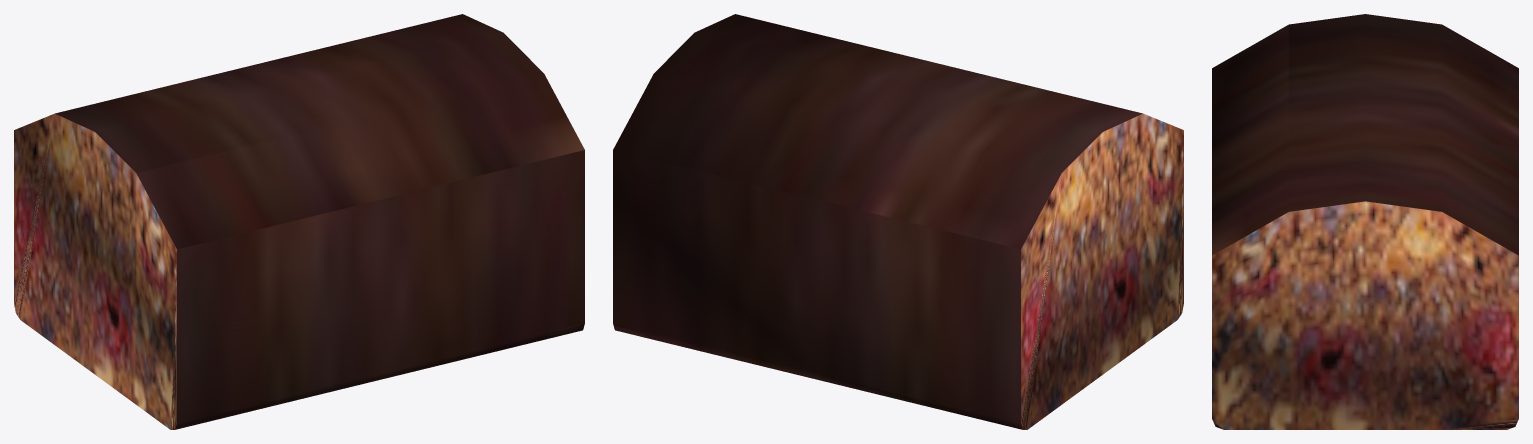
The model's file is WorldItem_FruitcakeLoaf.fbx.
3 views of the same model, side by side, from view 1: azimuth 30°, elevation 25°; view 2: azimuth 150°, elevation 25°; view 3: azimuth 270°, elevation 25° (orthographic). The views are drawn at different scales.
Visible parts, largest first — view 1: Cube; view 2: Cube; view 3: Cube.
Part boxes in pixels (left/top/right/bottom): Cube: left=14, top=14, right=584, bottom=429; Cube: left=613, top=14, right=1183, bottom=429; Cube: left=1212, top=14, right=1518, bottom=429.
Bounding box in the file's own units: 0.0644 × 0.0367 × 0.0446.
